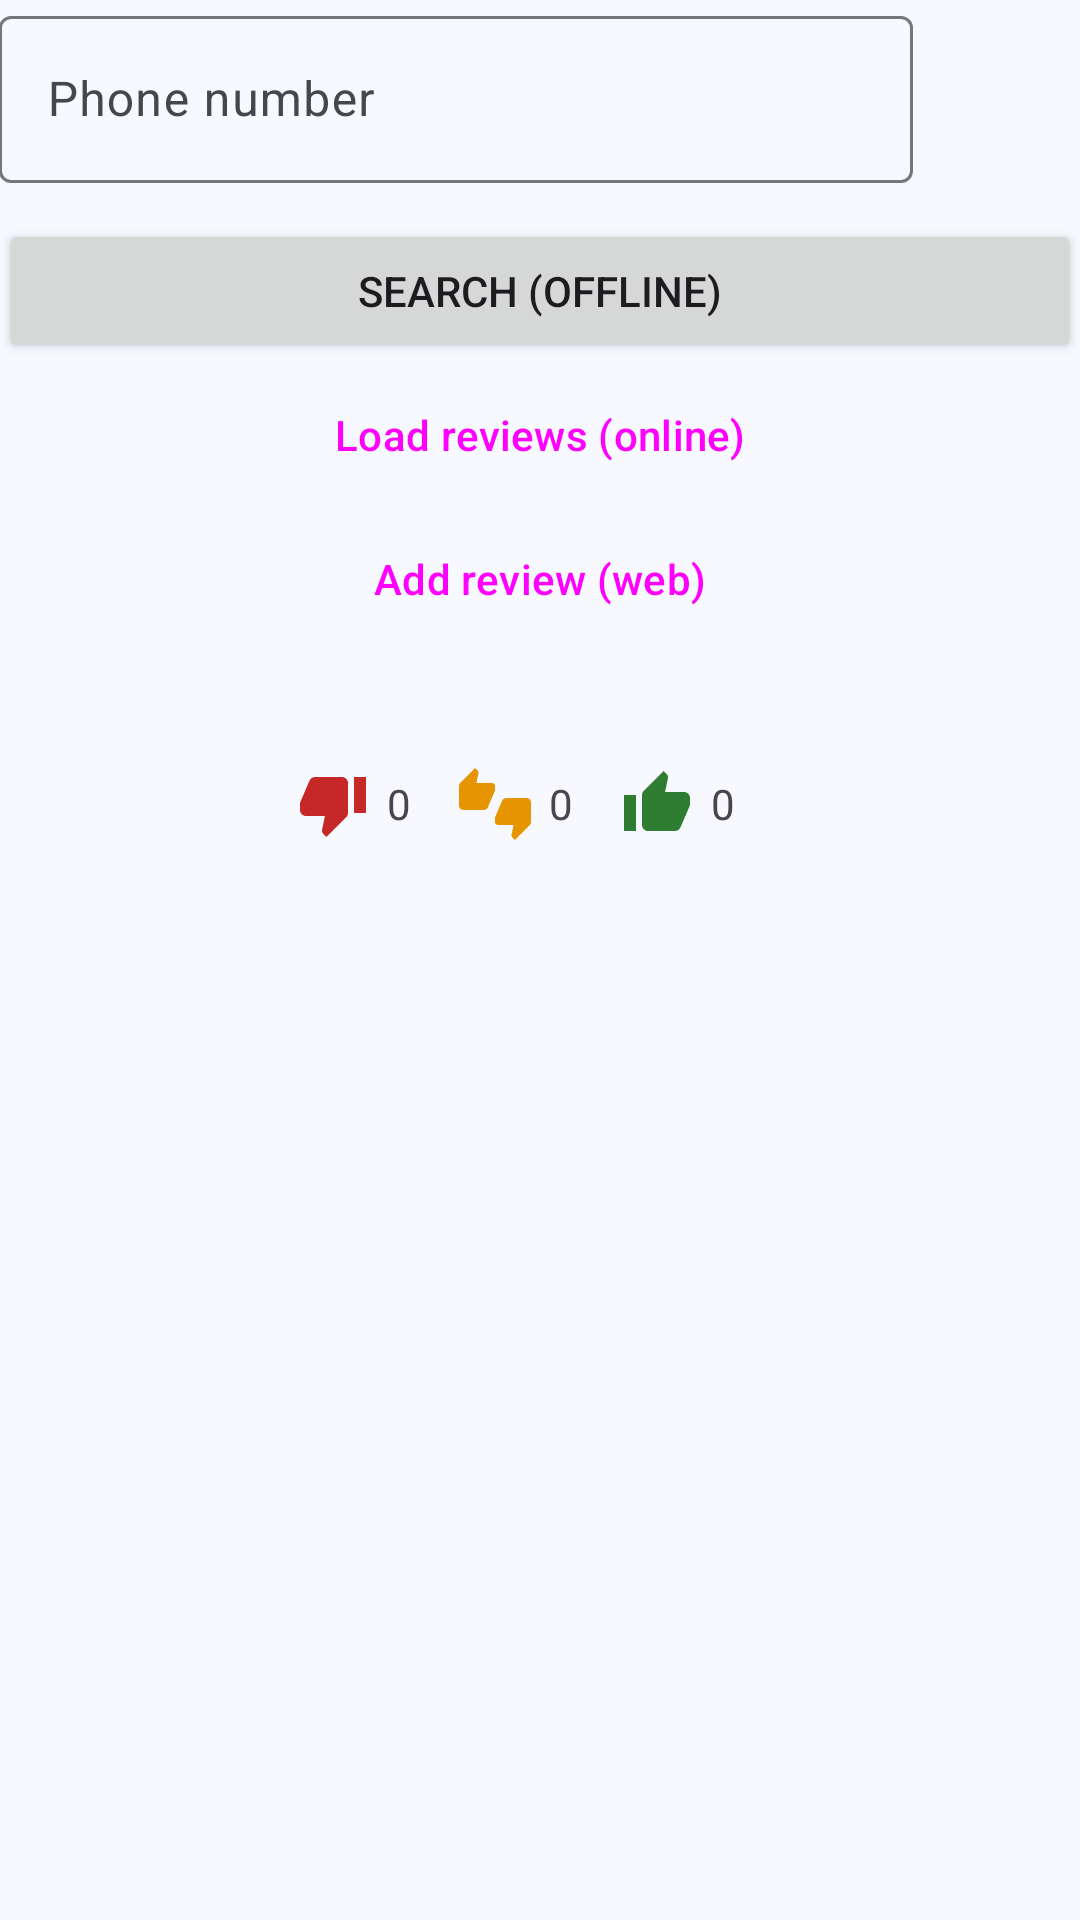

Icons on this 1080x1920 Android screen, each with the point to tap as point (x, y):
thumb down: point (333, 807)
thumb up: point (657, 801)
thumbs up down: point (495, 804)
